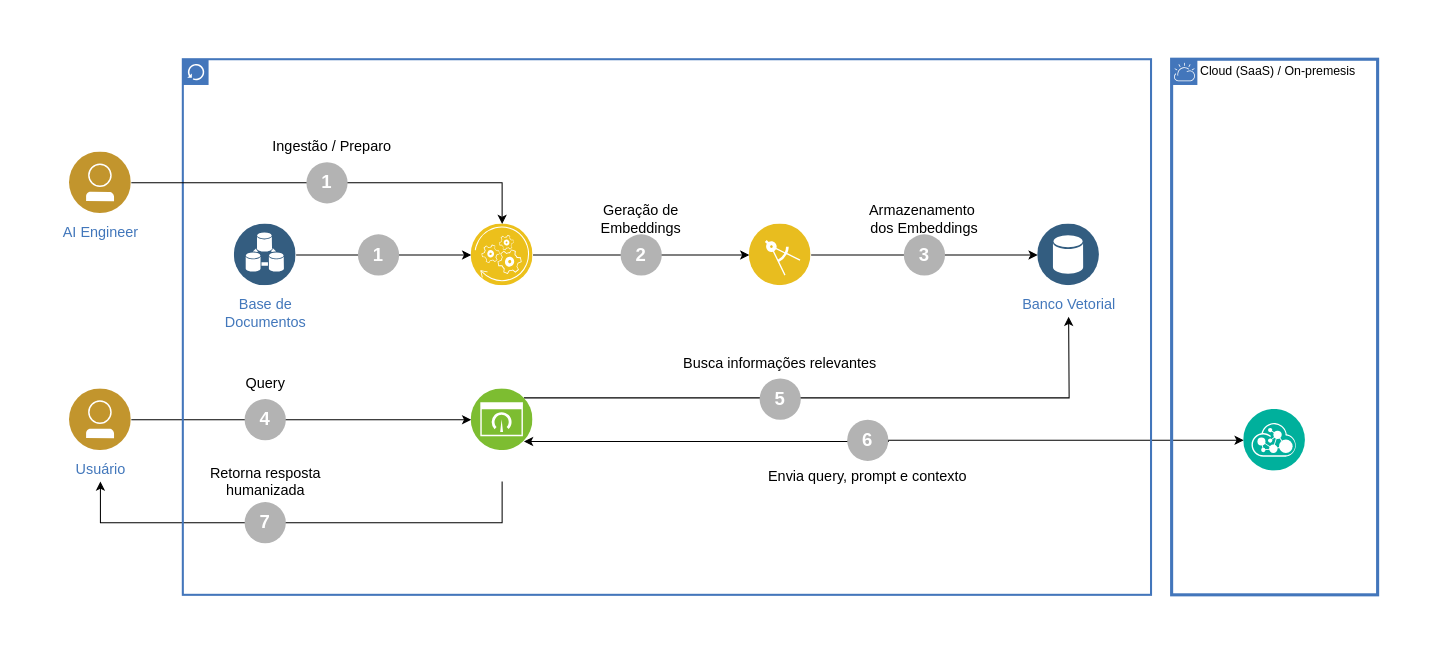
Image size: 1436x653. Some labels were removed from this diagram. The shapes that lost their labels are listed below. From the top down, each one's box as (x1, y1, x2, y2) in pixels, then its label:
(471, 224, 533, 285): Processamento de Dados
(749, 224, 811, 285): Embeddings
(181, 58, 1152, 595): Infraestrutura Clássica
(471, 388, 533, 450): Aplicação GenAI
(1243, 409, 1305, 471): Large Language Model (LLM)
